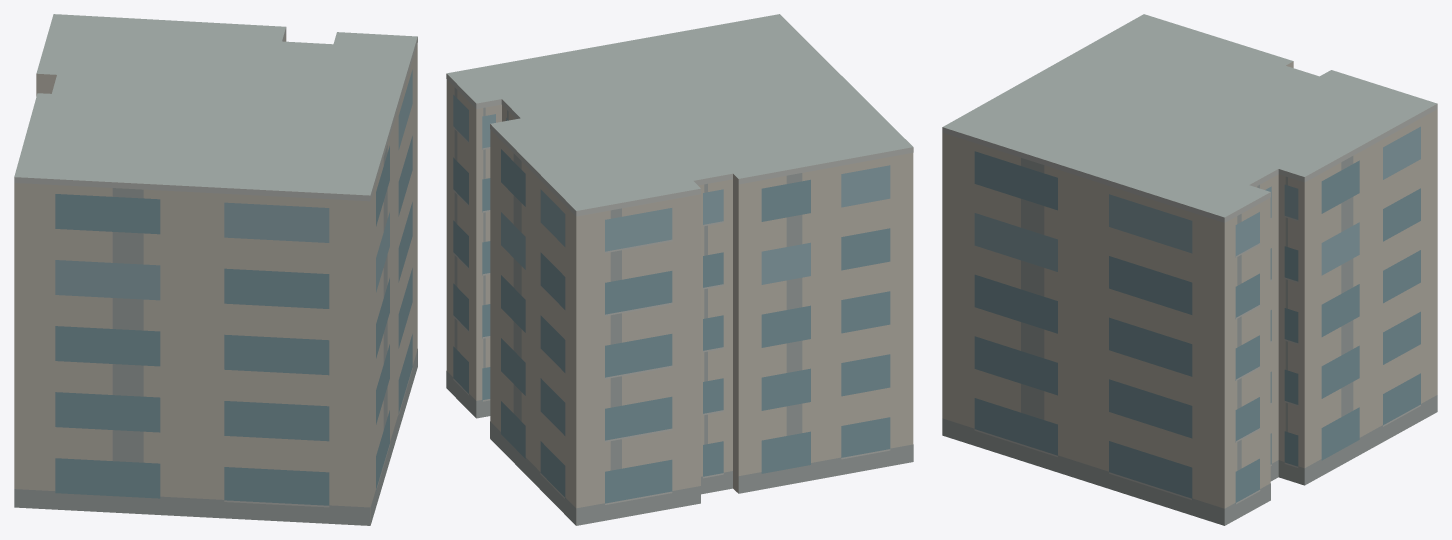
Rendered from survey-upis-32616050.glb.
The picture shows the model from 3 angles, left to right: view 1: azimuth 30°, elevation 25°; view 2: azimuth 150°, elevation 25°; view 3: azimuth 270°, elevation 25°; orthographic projection. The views are drawn at different scales.
Visible parts, largest first — view 1: survey-upis-32616050.tmp; view 2: survey-upis-32616050.tmp; view 3: survey-upis-32616050.tmp.
Part boxes in pixels (bbox=[...]): survey-upis-32616050.tmp: bbox=[14, 14, 417, 525]; survey-upis-32616050.tmp: bbox=[446, 14, 913, 525]; survey-upis-32616050.tmp: bbox=[942, 14, 1437, 525].
Bounding box in the file's own units: 19.68 × 13.9 × 20.23.
